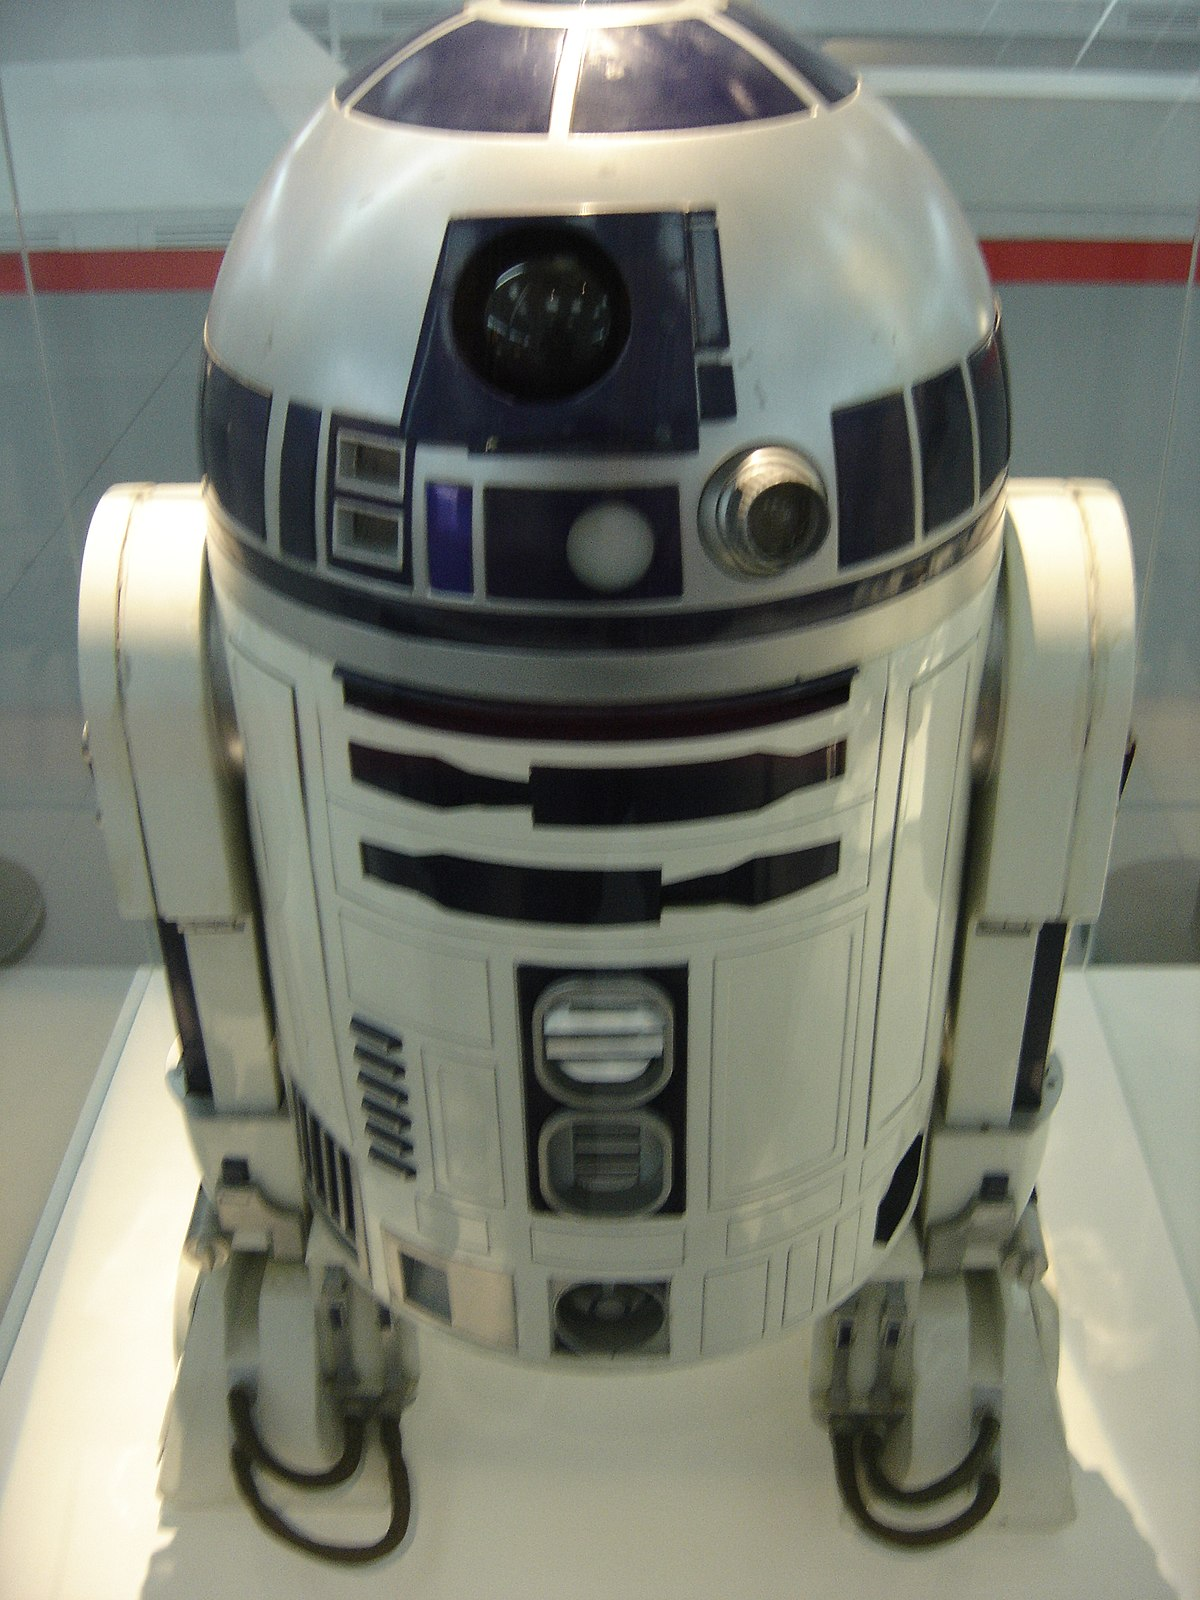r2d2: (79, 3, 1132, 1553)
